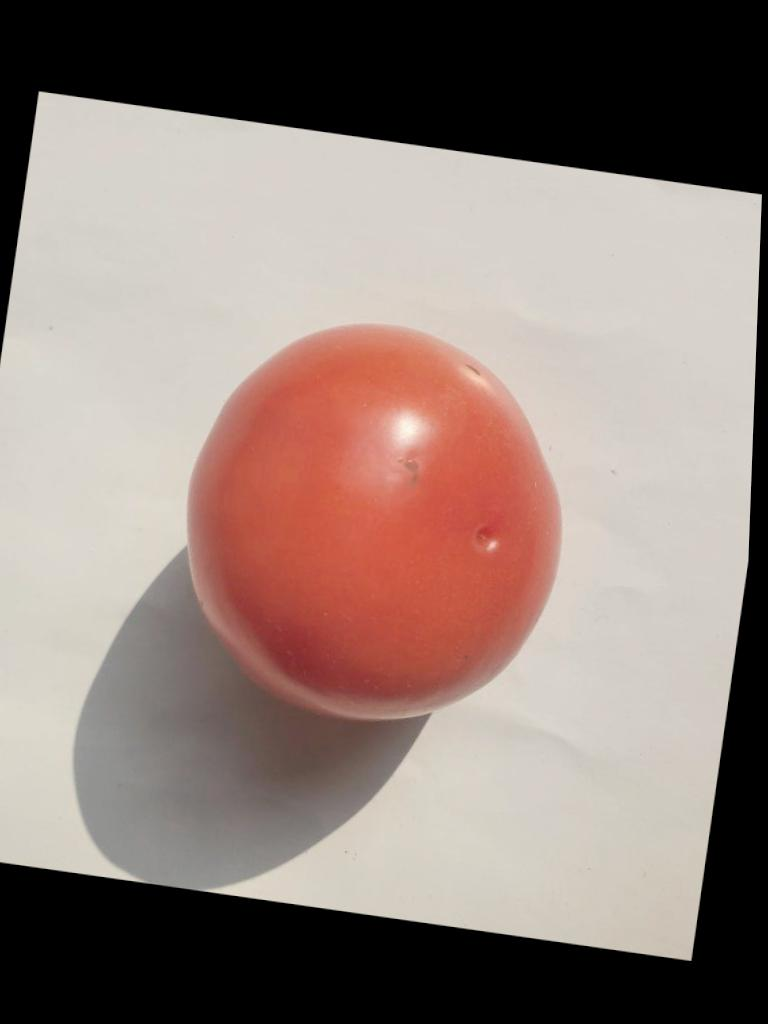tomato: (187, 326, 559, 720)
